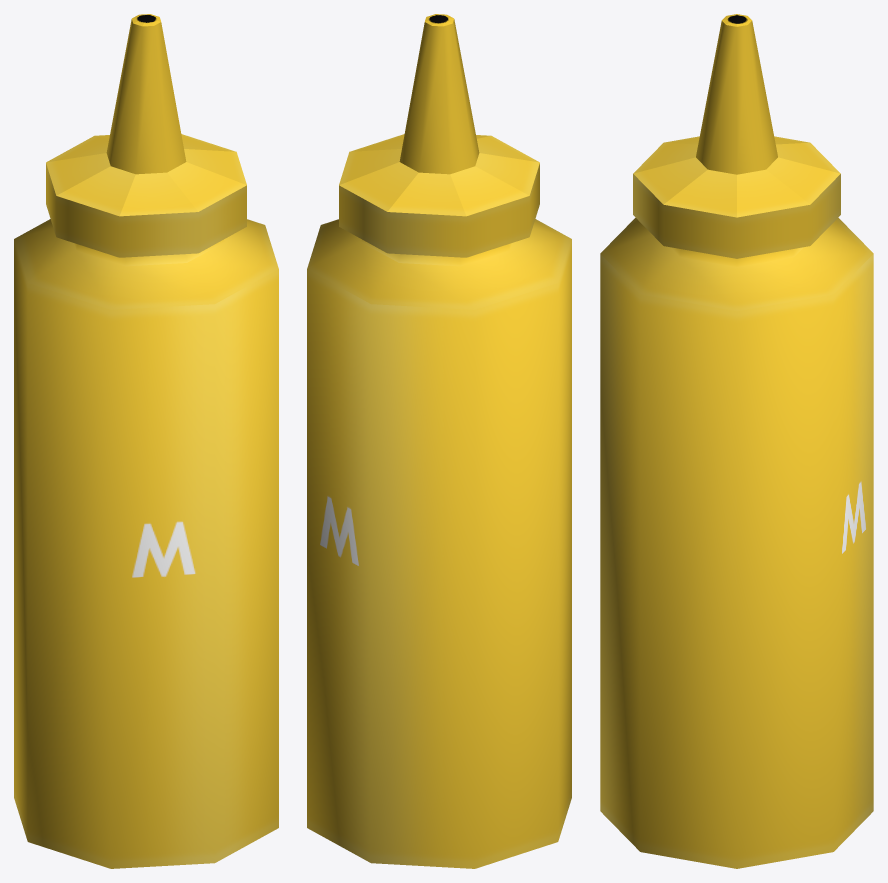
The model's file is fff_bottles_mustard.FBX.
3 views of the same model, side by side, from view 1: azimuth 30°, elevation 25°; view 2: azimuth 150°, elevation 25°; view 3: azimuth 270°, elevation 25° (orthographic).
Visible parts, largest first — view 1: fff_bottles_mustard; view 2: fff_bottles_mustard; view 3: fff_bottles_mustard.
Part boxes in pixels (bbox=[...]): fff_bottles_mustard: bbox=[14, 14, 278, 868]; fff_bottles_mustard: bbox=[307, 14, 571, 868]; fff_bottles_mustard: bbox=[600, 14, 873, 868].
Size of the model in its own units: 2.65 by 8.49 by 2.65.
